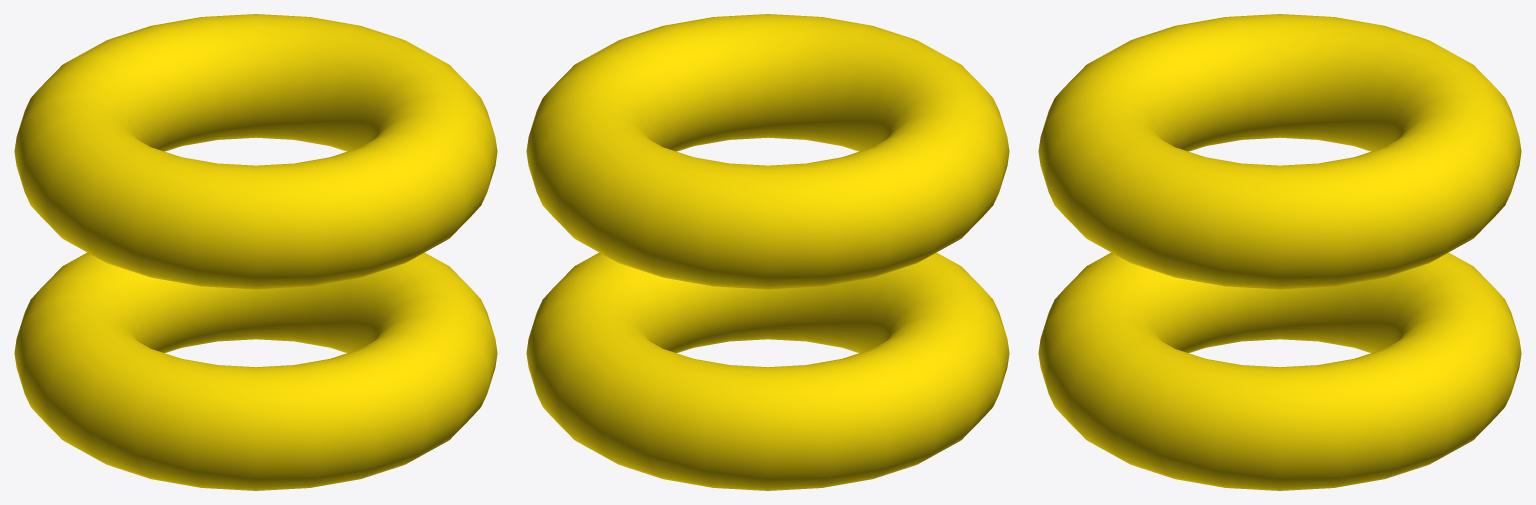
Rendered from MyHome.glb.
The picture shows the model from 3 angles, left to right: view 1: azimuth 30°, elevation 25°; view 2: azimuth 150°, elevation 25°; view 3: azimuth 270°, elevation 25°; orthographic projection.
Visible parts, largest first — view 1: Geom3D; view 2: Geom3D; view 3: Geom3D.
Part boxes in pixels (x1,y1,x2,y2): Geom3D: (14, 14, 497, 490); Geom3D: (526, 14, 1009, 490); Geom3D: (1038, 14, 1521, 490).
Bounding box in the file's own units: 1.56 × 1.12 × 1.56.
